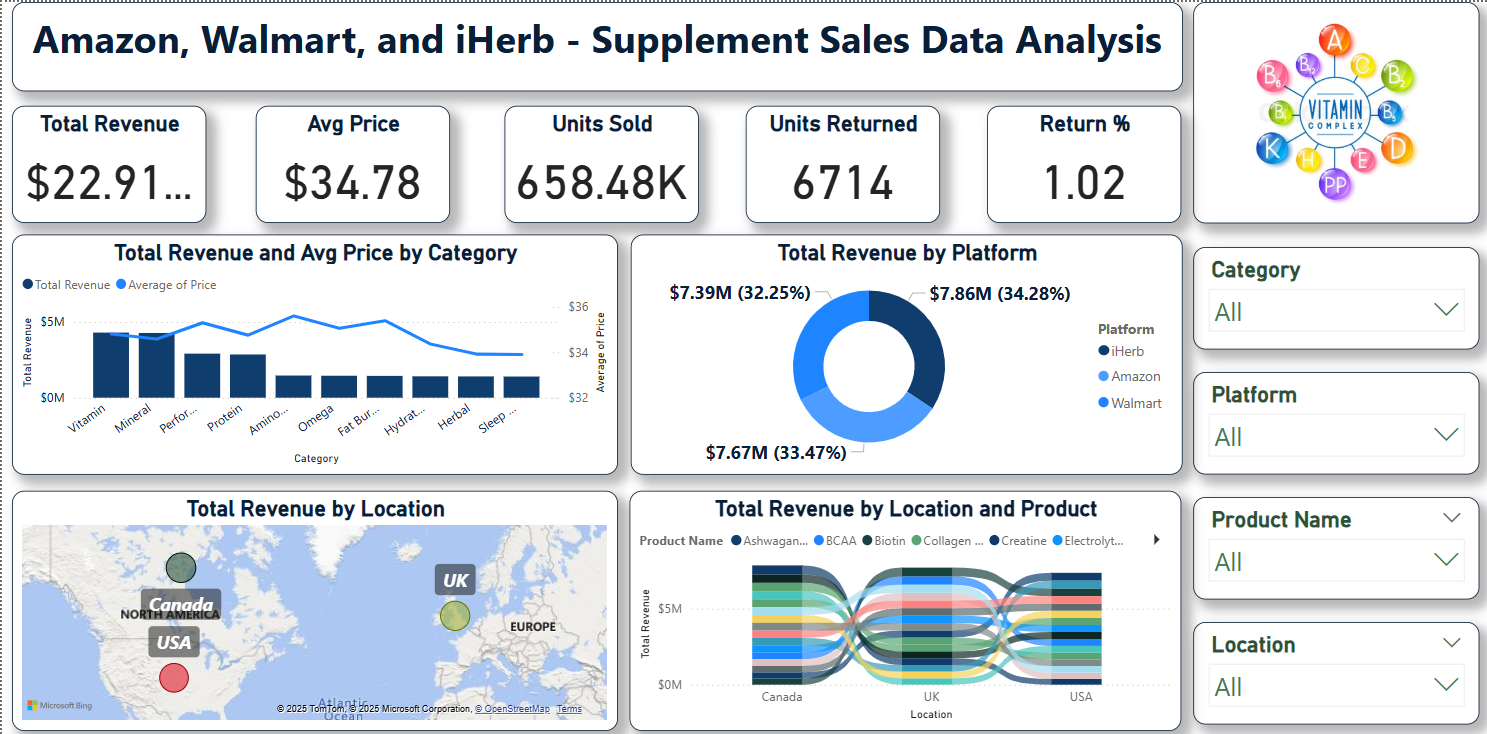

The page's visual inventory and layout, read from the dashboard file:
{"tool":"powerbi","page":{"name":"Supplements Sales  Dashboard","canvas":[1450,720],"ordinal":0},"visuals":[{"type":"textbox","box":[9.8,12.2,1141.5,74.4],"z":0},{"type":"image","box":[1162.2,12.2,278,117.1],"z":1000},{"type":"card","title":"Total Revenue","fields":{"Values":["Sum(Supplement_Sales_Weekly_Expanded.Revenue)"]},"box":[9.8,101.2,207.3,104.9],"z":2000},{"type":"card","title":"Avg Price","fields":{"Values":["Avg(Supplement_Sales_Weekly_Expanded.Price)"]},"box":[239,101.2,214.6,104.9],"z":3000},{"type":"card","title":"Units Sold","fields":{"Values":["Sum(Supplement_Sales_Weekly_Expanded.Units Sold)"]},"box":[481.7,101.2,201.2,104.9],"z":4000},{"type":"card","title":"Units Returned","fields":{"Values":["Sum(Supplement_Sales_Weekly_Expanded.Units Returned)"]},"box":[712.2,101.2,196.3,104.9],"z":5000},{"type":"card","title":"Return %","fields":{"Values":["Supplement_Sales_Weekly_Expanded.Return %"]},"box":[940.2,101.2,204.9,104.9],"z":6000},{"type":"slicer","fields":{"Values":["Supplement_Sales_Weekly_Expanded.Category"]},"box":[1161,269.5,279.3,100],"z":7000},{"type":"slicer","fields":{"Values":["Supplement_Sales_Weekly_Expanded.Platform"]},"box":[1161,385.4,279.3,100],"z":8000},{"type":"slicer","fields":{"Values":["Supplement_Sales_Weekly_Expanded.Product Name"]},"box":[1162.2,503.7,279.3,100],"z":9000},{"type":"slicer","fields":{"Values":["Supplement_Sales_Weekly_Expanded.Location"]},"box":[1161,615.9,279.3,95.1],"z":10000},{"type":"lineStackedColumnComboChart","title":"Total Revenue and Avg Price by Category","fields":{"Y":["Sum(Supplement_Sales_Weekly_Expanded.Revenue)"],"Category":["Supplement_Sales_Weekly_Expanded.Category"],"Y2":["Avg(Supplement_Sales_Weekly_Expanded.Price)"]},"box":[9.2,226.6,591.4,234.5],"z":11000},{"type":"donutChart","title":"Total Revenue by Platform","fields":{"Category":["Supplement_Sales_Weekly_Expanded.Platform"],"Y":["Sum(Supplement_Sales_Weekly_Expanded.Revenue)"]},"box":[613.8,226.6,538.7,234.5],"z":12000},{"type":"map","title":"Total Revenue by Location","fields":{"Category":["Supplement_Sales_Weekly_Expanded.Location"],"Size":["Sum(Supplement_Sales_Weekly_Expanded.Revenue)"]},"box":[9.2,476.8,591.4,234.5],"z":13000},{"type":"ribbonChart","title":"Total Revenue by Location and Product","fields":{"Category":["Supplement_Sales_Weekly_Expanded.Location"],"Y":["Sum(Supplement_Sales_Weekly_Expanded.Revenue)"],"Series":["Supplement_Sales_Weekly_Expanded.Product Name"]},"box":[612.5,476.8,538.7,234.5],"z":14000},{"type":"slicer","fields":{"Values":["Supplement_Sales_Weekly_Expanded.Date.Variation.Date Hierarchy.Year","Supplement_Sales_Weekly_Expanded.Date.Variation.Date Hierarchy.Quarter","Supplement_Sales_Weekly_Expanded.Date.Variation.Date Hierarchy.Month","Supplement_Sales_Weekly_Expanded.Date.Variation.Date Hierarchy.Day"]},"box":[1161,140.2,279.3,104.9],"z":14001}]}

Visuals, with their boxes in screenshot pixels (x1, y1, x2, y2), scaled from the page's 1450x720 canvas onto the 1487x734 screenshot:
textbox: {"left": 10, "top": 12, "right": 1181, "bottom": 88}
image: {"left": 1192, "top": 12, "right": 1477, "bottom": 132}
"Total Revenue" card: {"left": 10, "top": 103, "right": 223, "bottom": 210}
"Avg Price" card: {"left": 245, "top": 103, "right": 465, "bottom": 210}
"Units Sold" card: {"left": 494, "top": 103, "right": 700, "bottom": 210}
"Units Returned" card: {"left": 730, "top": 103, "right": 932, "bottom": 210}
"Return %" card: {"left": 964, "top": 103, "right": 1174, "bottom": 210}
slicer - Supplement_Sales_Weekly_Expanded.Category: {"left": 1191, "top": 275, "right": 1477, "bottom": 377}
slicer - Supplement_Sales_Weekly_Expanded.Platform: {"left": 1191, "top": 393, "right": 1477, "bottom": 495}
slicer - Supplement_Sales_Weekly_Expanded.Product Name: {"left": 1192, "top": 513, "right": 1478, "bottom": 615}
slicer - Supplement_Sales_Weekly_Expanded.Location: {"left": 1191, "top": 628, "right": 1477, "bottom": 725}
"Total Revenue and Avg Price by Category" lineStackedColumnComboChart: {"left": 9, "top": 231, "right": 616, "bottom": 470}
"Total Revenue by Platform" donutChart: {"left": 629, "top": 231, "right": 1182, "bottom": 470}
"Total Revenue by Location" map: {"left": 9, "top": 486, "right": 616, "bottom": 725}
"Total Revenue by Location and Product" ribbonChart: {"left": 628, "top": 486, "right": 1181, "bottom": 725}
slicer - Supplement_Sales_Weekly_Expanded.Date.Variation.Date Hierarchy.Year x Supplement_Sales_Weekly_Expanded.Date.Variation.Date Hierarchy.Quarter: {"left": 1191, "top": 143, "right": 1477, "bottom": 250}
